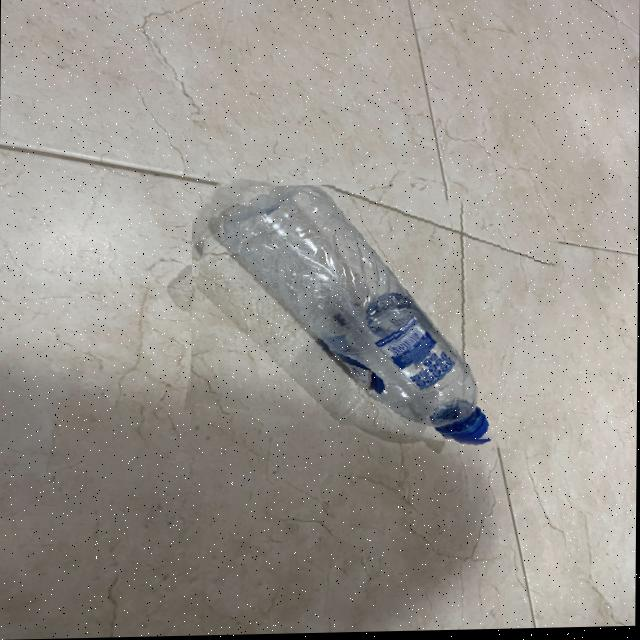plasticbottle: (190, 182, 555, 449)
